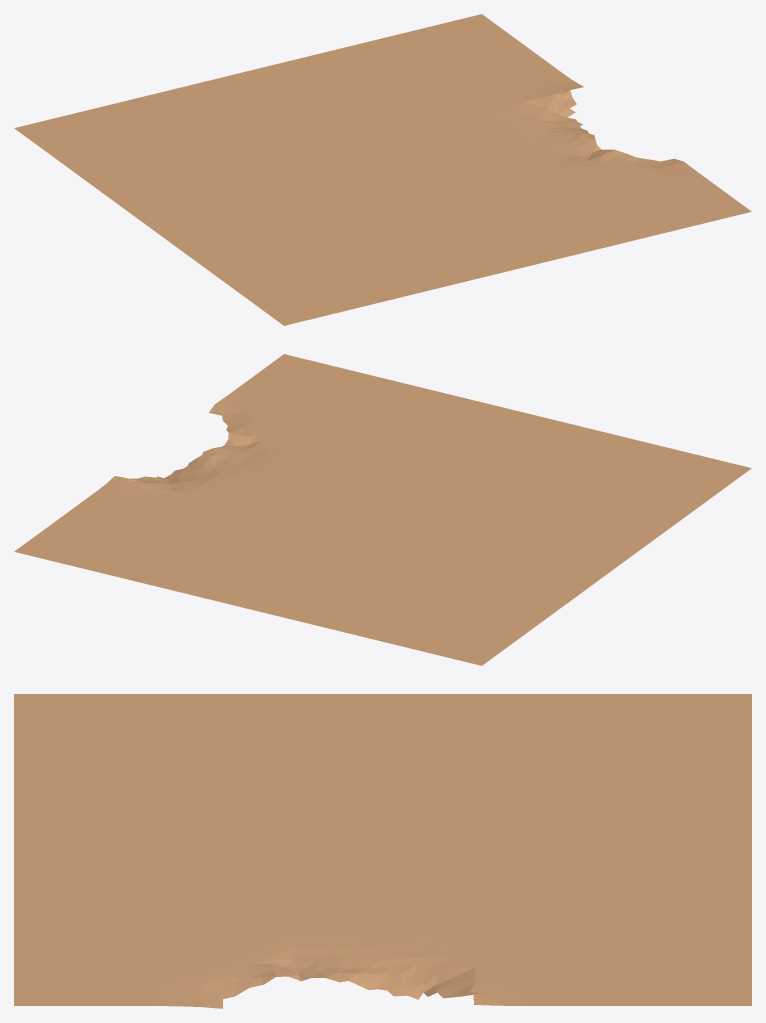
File: Arena2.2.fbx
3 views of the same model, one above another, from view 1: azimuth 30°, elevation 25°; view 2: azimuth 150°, elevation 25°; view 3: azimuth 270°, elevation 25° (orthographic). The views are drawn at different scales.
Parts seen in each view (by area): view 1: Arena2.2; view 2: Arena2.2; view 3: Arena2.2.
Part boxes in pixels (x1,y1,x2,y2): Arena2.2: [14, 14, 751, 325]; Arena2.2: [14, 354, 751, 665]; Arena2.2: [14, 694, 751, 1008].
Size of the model in its own units: 1312 by 28.94 by 1310.
